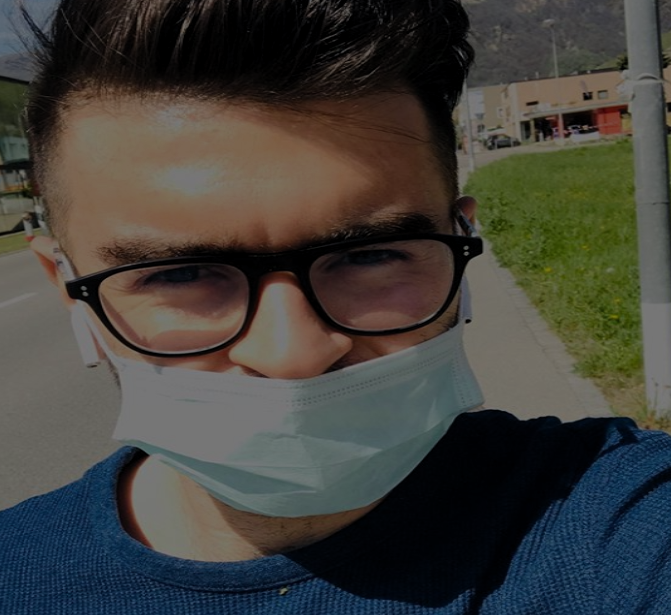mask_weared_incorrect: (16, 43, 489, 525)
